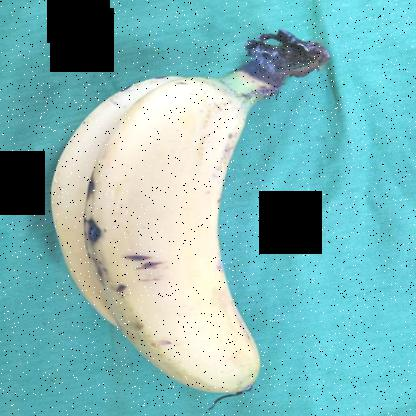ripe: (76, 73, 286, 407)
